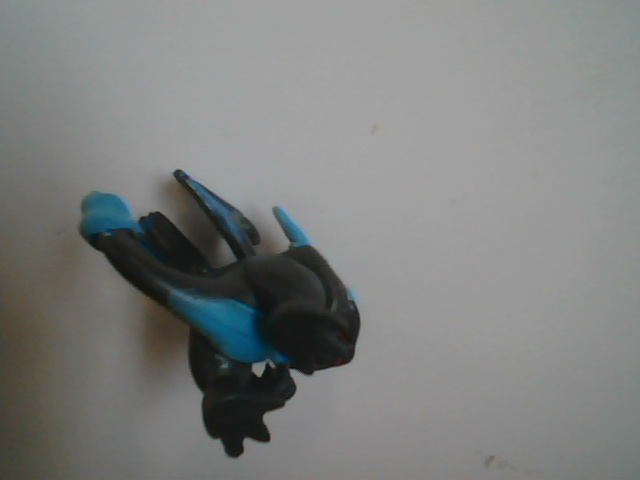charizard: (49, 85, 422, 453)
